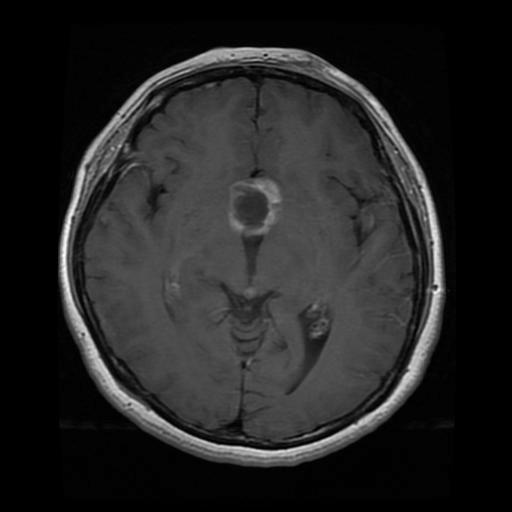Tumour-Pituitary: (210, 170, 285, 247)
